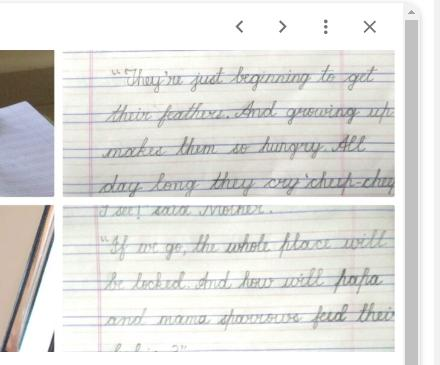text: (99, 227, 389, 261), (104, 300, 396, 333), (104, 98, 395, 130), (97, 167, 395, 198), (102, 265, 384, 296), (110, 63, 379, 94), (99, 133, 368, 163), (97, 204, 273, 221), (113, 342, 189, 352)
